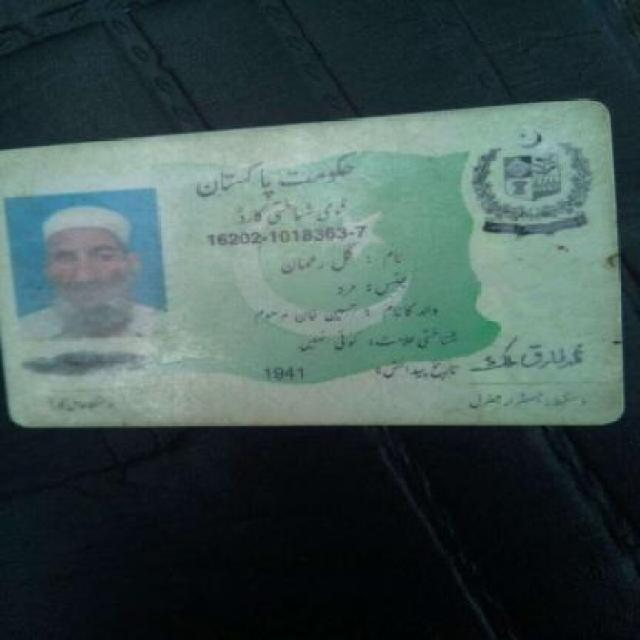Front: (5, 133, 623, 424)
